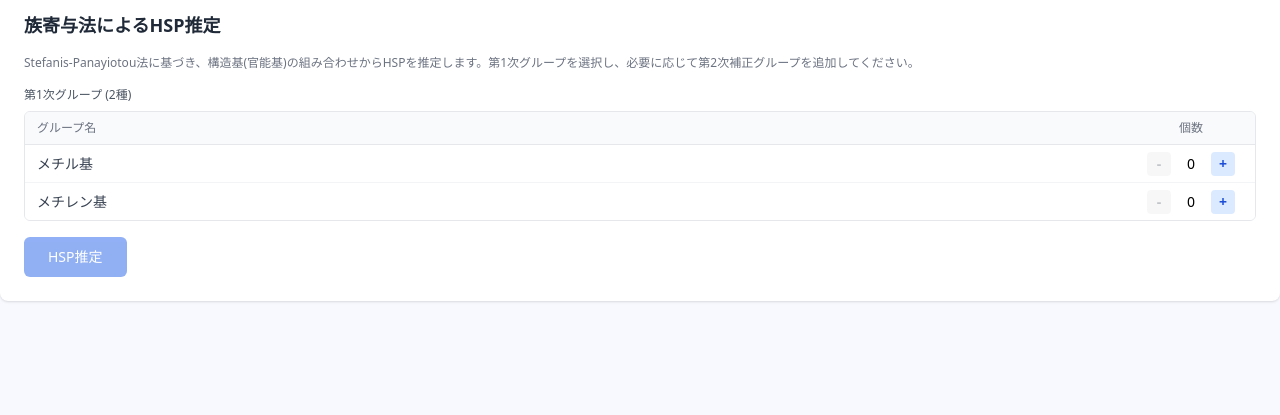
Scenario: GroupContributionView › +ボタンでグループカウントが増加する
Check: the text "メチル基" is shown, box [25,144,1127,182]
Note: メチル基の+ボタンをクリック
Click the button "+" in the row of "メチル基".
click(1223, 164)  # box [1211,152,1235,176]
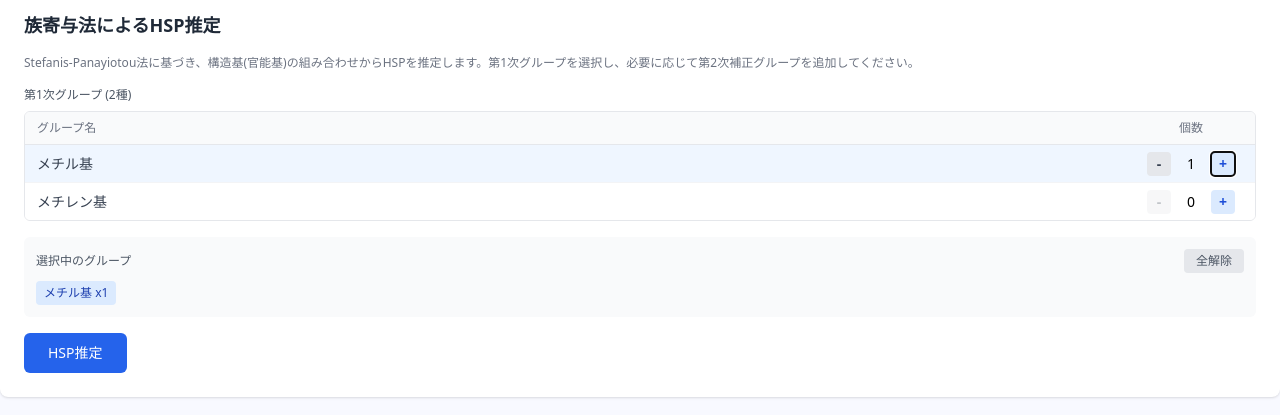
Check: the text "メチル基 x1" is shown, box [36,281,116,305]
